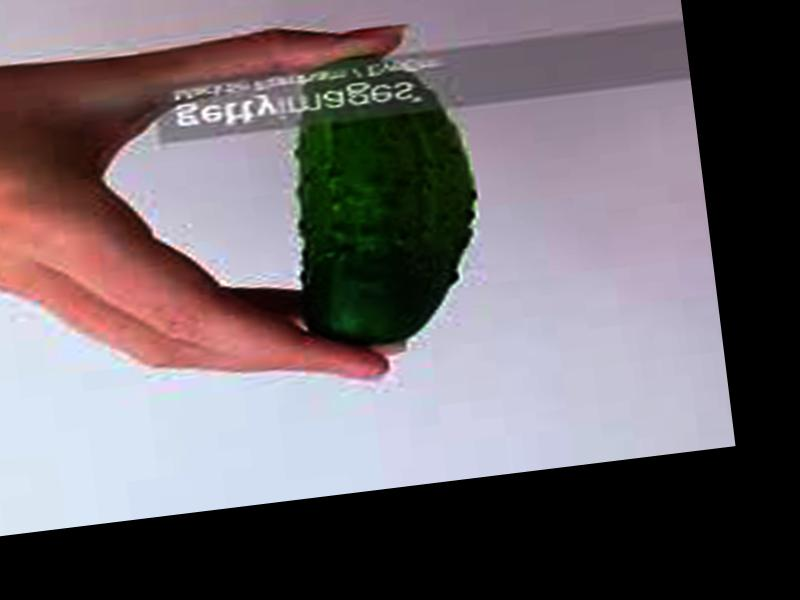Cucumber: (276, 43, 493, 353)
